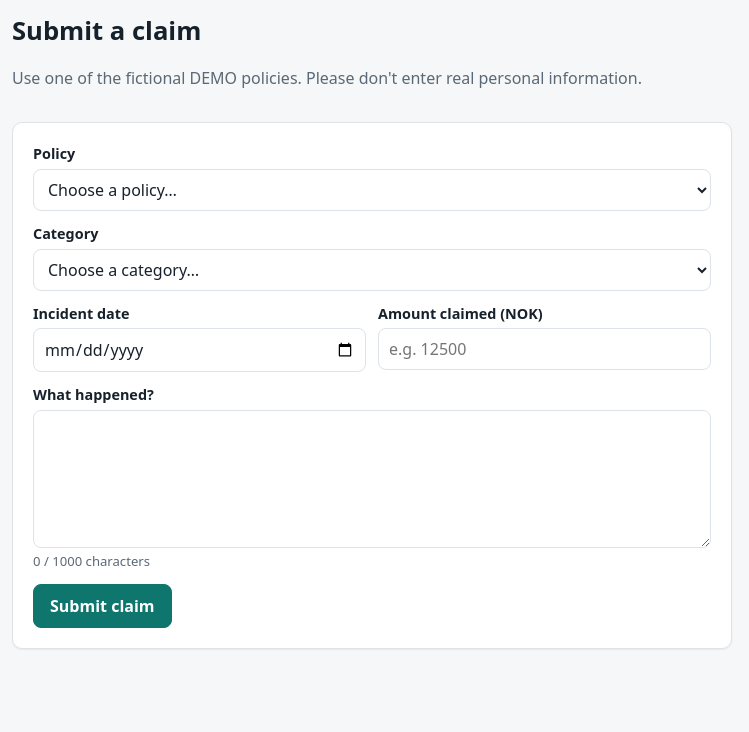
Scenario: NewClaimForm › shows client-side errors without calling the API
This screenshot has width=749, height=732.
Click the button "Submit claim".
click(102, 606)  # box [33,584,172,628]
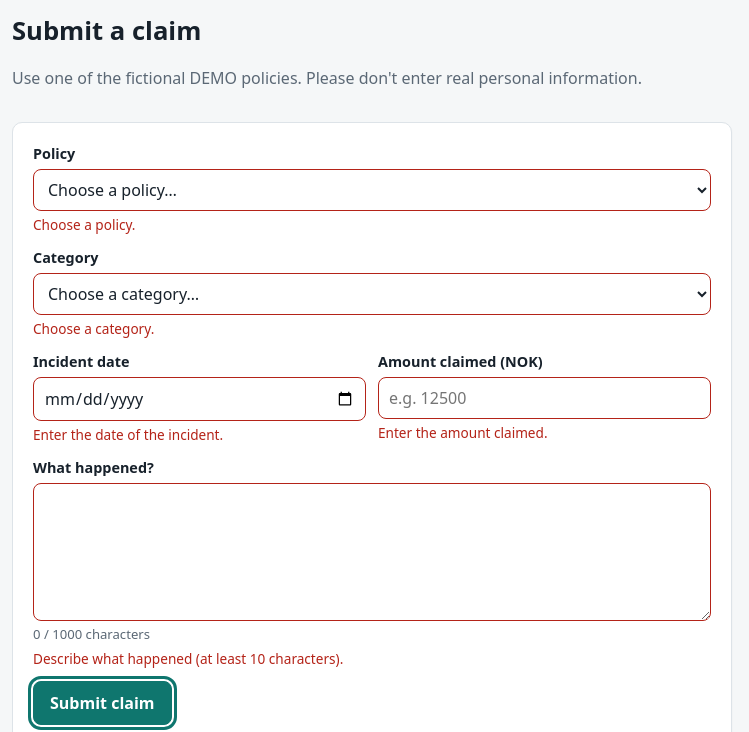
Result: the text "Choose a policy." is shown at [33,215,136,234]
